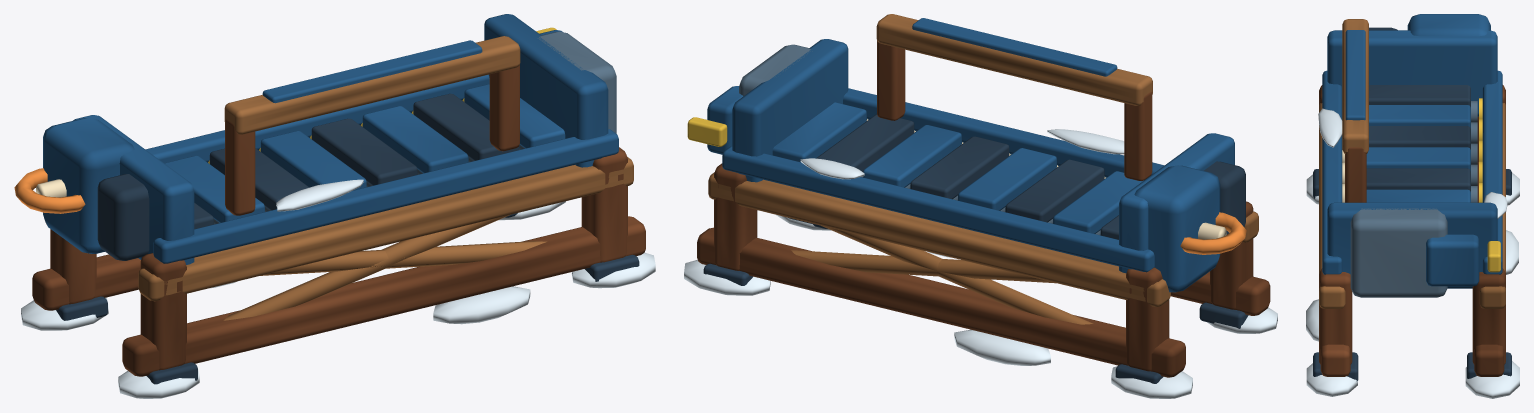
Rendered from conveyor_straight.glb.
3 views of the same model, side by side, from view 1: azimuth 30°, elevation 25°; view 2: azimuth 150°, elevation 25°; view 3: azimuth 270°, elevation 25° (orthographic). The views are drawn at different scales.
Parts seen in each view (by area): view 1: conveyor_straight; view 2: conveyor_straight; view 3: conveyor_straight.
Boxes of the visible parts, <box> form: conveyor_straight: <box>14,14,655,398</box>; conveyor_straight: <box>684,14,1277,398</box>; conveyor_straight: <box>1306,14,1519,398</box>.
Bounding box in the file's own units: 3.36 × 1.46 × 1.28.
